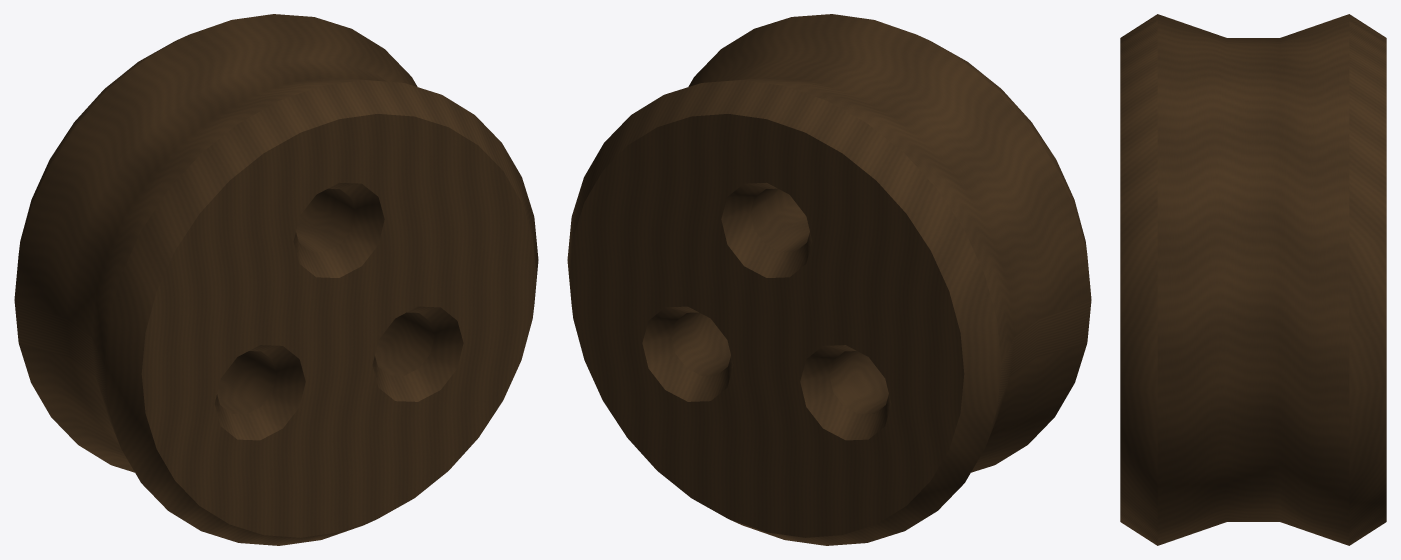
File: rigging-deadeye.glb
3 views of the same model, side by side, from view 1: azimuth 30°, elevation 25°; view 2: azimuth 150°, elevation 25°; view 3: azimuth 270°, elevation 25° (orthographic). The views are drawn at different scales.
Parts seen in each view (by area): view 1: authored_deadeye; view 2: authored_deadeye; view 3: authored_deadeye.
Part boxes in pixels (bbox=[...]): authored_deadeye: bbox=[14, 14, 538, 545]; authored_deadeye: bbox=[567, 14, 1091, 545]; authored_deadeye: bbox=[1120, 14, 1386, 545].
Size of the model in its own units: 2 by 2 by 1.
1 material, 1 textured.
